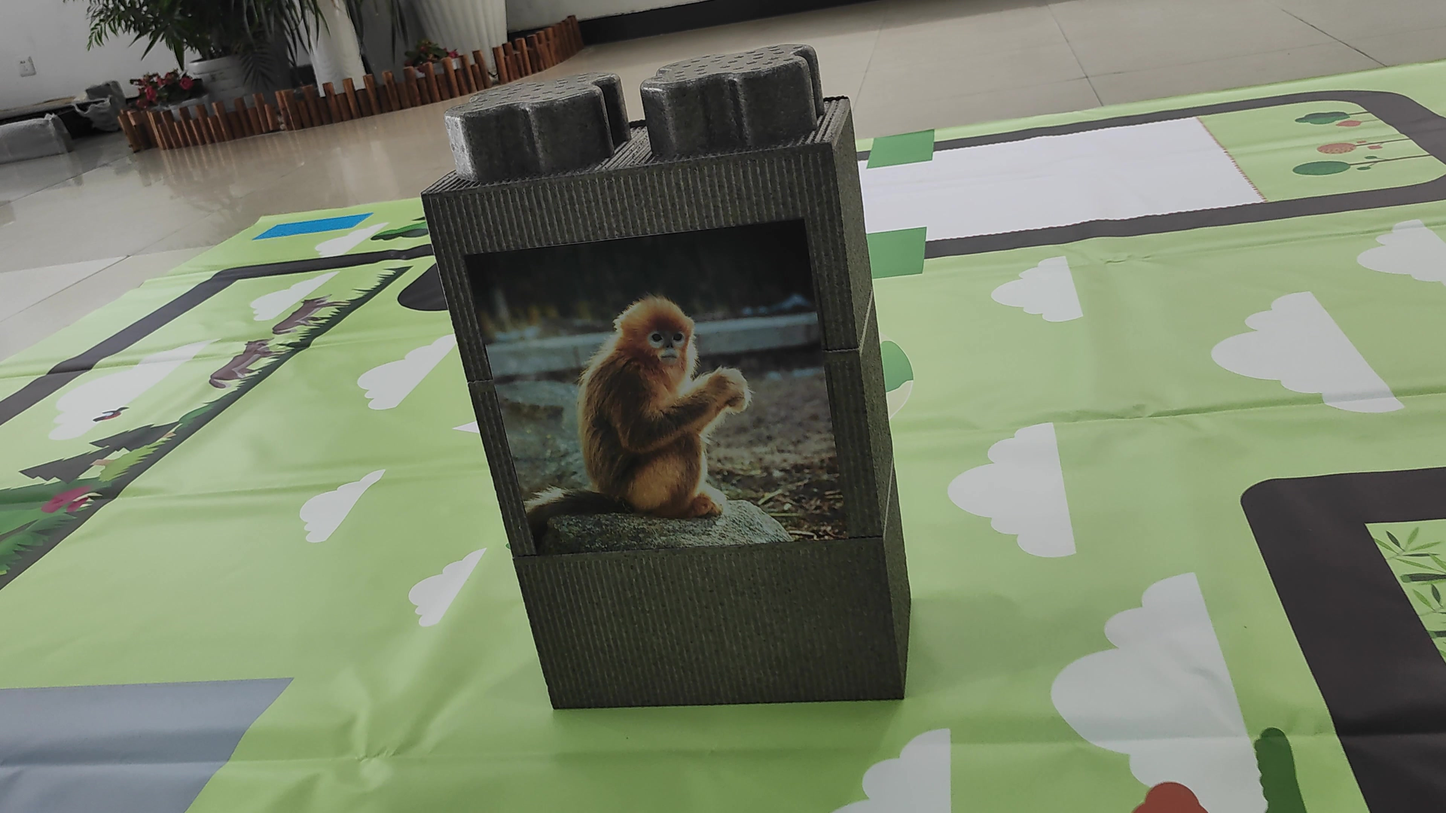monkey: (519, 276, 800, 563)
